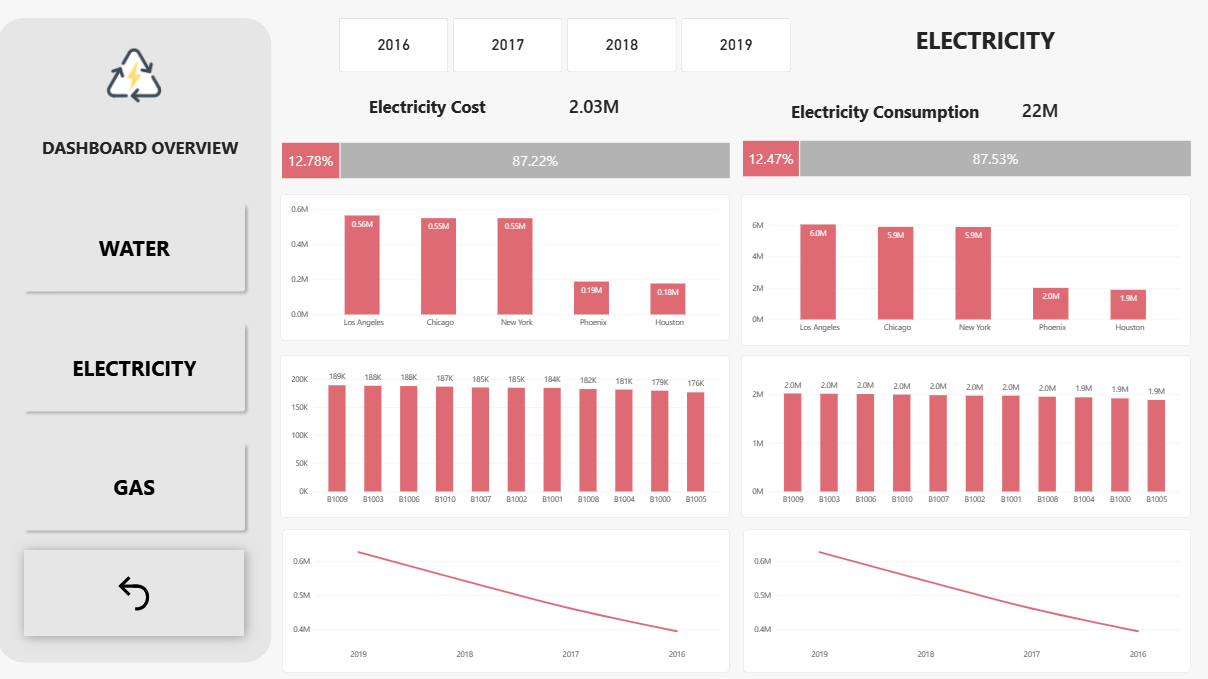

The page's visual inventory and layout, read from the dashboard file:
{"tool":"powerbi","page":{"name":"Electricity","canvas":[1920,1080],"ordinal":2},"visuals":[{"type":"textbox","box":[1377.8,38.1,377.3,65],"z":0},{"type":"shape","box":[0,28.7,435.4,1022],"z":1000},{"type":"textbox","box":[52.9,216.2,349.2,51.4],"z":2000},{"type":"actionButton","box":[33.3,314.5,368.9,157.2],"z":3000},{"type":"actionButton","box":[33.3,503.4,368.9,157.2],"z":4000},{"type":"actionButton","box":[33.3,692.4,368.9,157.2],"z":5000},{"type":"actionButton","box":[42.3,872.3,349.2,136.1],"z":6000},{"type":"image","box":[99.8,65,235.8,108.9],"z":7000},{"type":"clusteredColumnChart","fields":{"Category":["Building Master.City"],"Y":["Kpis.Electricity Cost"]},"box":[448.7,307.6,713.5,233.1],"z":8000},{"type":"cardVisual","fields":{"Data":["Kpis.Electricity Cost"]},"box":[891,133.2,172.8,69.8],"z":9000},{"type":"cardVisual","fields":{"Data":["Kpis.Electric Consumption"]},"box":[1609.2,139.5,187.1,69.8],"z":10000},{"type":"advancedSlicerVisual","fields":{"Values":["Energy Consumptions.Year"]},"box":[542.2,28.5,718.1,86.2],"z":11000},{"type":"textbox","box":[507.3,150.6,349.2,51.4],"z":12000},{"type":"textbox","box":[1233.5,158.5,349.2,51.4],"z":13000},{"type":"clusteredColumnChart","fields":{"Category":["Building Master.City"],"Y":["Kpis.Electric Consumption"]},"box":[1179.6,307.6,713.5,241],"z":14000},{"type":"clusteredColumnChart","fields":{"Category":["Building Master.Building"],"Y":["Kpis.Electricity Cost"]},"box":[448.7,562.8,713.5,258.4],"z":15000},{"type":"clusteredColumnChart","fields":{"Category":["Building Master.Building"],"Y":["Kpis.Electric Consumption"]},"box":[1179.6,562.8,713.5,258.4],"z":16000},{"type":"lineChart","fields":{"Category":["Energy Consumptions.Year"],"Y":["Kpis.Electricity Cost"]},"box":[1182.8,838.7,710.3,228.3],"z":17000},{"type":"hundredPercentStackedBarChart","fields":{"Y":["Kpis.% Electricity Cost","Kpis.Electric Cost Remaining %"]},"box":[451.9,190.3,710.3,120.5],"z":18000},{"type":"hundredPercentStackedBarChart","fields":{"Y":["Kpis.% Electricity Cost","Kpis.Electric Consumption Remaining %"]},"box":[1182.8,187.1,710.3,120.5],"z":19000},{"type":"lineChart","fields":{"Category":["Energy Consumptions.Year"],"Y":["Kpis.Electricity Cost"]},"box":[451.9,838.7,710.3,228.3],"z":20000}]}

Visuals, with their boxes in screenshot pixels (x1, y1, x2, y2), scaled from the page's 1920x1080 canvas onto the 1208x679 screenshot:
textbox: <region>867, 24, 1104, 65</region>
shape: <region>0, 18, 274, 661</region>
textbox: <region>33, 136, 253, 168</region>
actionButton: <region>21, 198, 253, 297</region>
actionButton: <region>21, 316, 253, 415</region>
actionButton: <region>21, 435, 253, 534</region>
actionButton: <region>27, 548, 246, 634</region>
image: <region>63, 41, 211, 109</region>
clusteredColumnChart - Building Master.City x Kpis.Electricity Cost: <region>282, 193, 731, 340</region>
cardVisual - Kpis.Electricity Cost: <region>561, 84, 669, 128</region>
cardVisual - Kpis.Electric Consumption: <region>1012, 88, 1130, 132</region>
advancedSlicerVisual - Energy Consumptions.Year: <region>341, 18, 793, 72</region>
textbox: <region>319, 95, 539, 127</region>
textbox: <region>776, 100, 996, 132</region>
clusteredColumnChart - Building Master.City x Kpis.Electric Consumption: <region>742, 193, 1191, 345</region>
clusteredColumnChart - Building Master.Building x Kpis.Electricity Cost: <region>282, 354, 731, 516</region>
clusteredColumnChart - Building Master.Building x Kpis.Electric Consumption: <region>742, 354, 1191, 516</region>
lineChart - Energy Consumptions.Year x Kpis.Electricity Cost: <region>744, 527, 1191, 671</region>
hundredPercentStackedBarChart - Kpis.% Electricity Cost x Kpis.Electric Cost Remaining %: <region>284, 120, 731, 195</region>
hundredPercentStackedBarChart - Kpis.% Electricity Cost x Kpis.Electric Consumption Remaining %: <region>744, 118, 1191, 193</region>
lineChart - Energy Consumptions.Year x Kpis.Electricity Cost: <region>284, 527, 731, 671</region>
